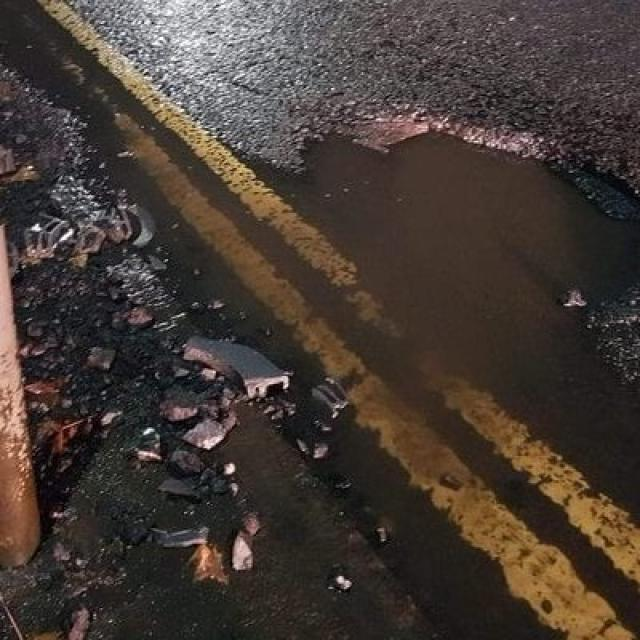Pothole: (0, 0, 640, 640), (225, 406, 420, 640)
